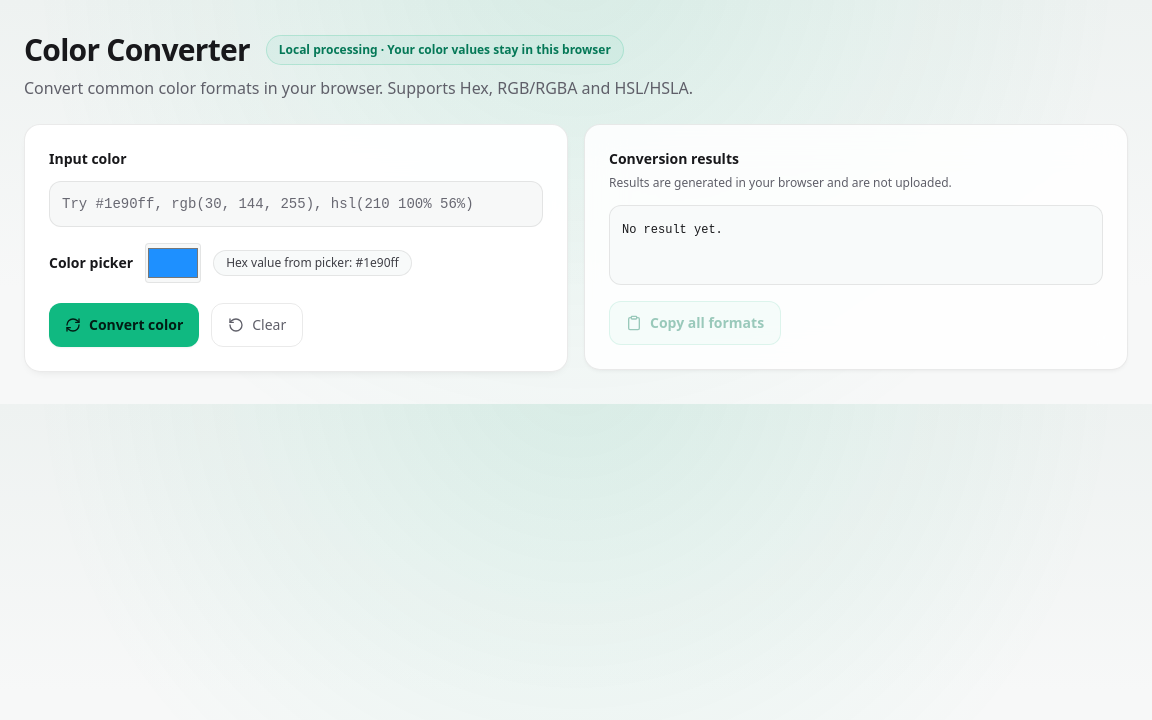
it: ColorConverterClient › shows error message for invalid input
This screenshot has width=1152, height=720.
Type "bad-color" into the field named "Input color" at (296, 204), box [49, 181, 543, 227]
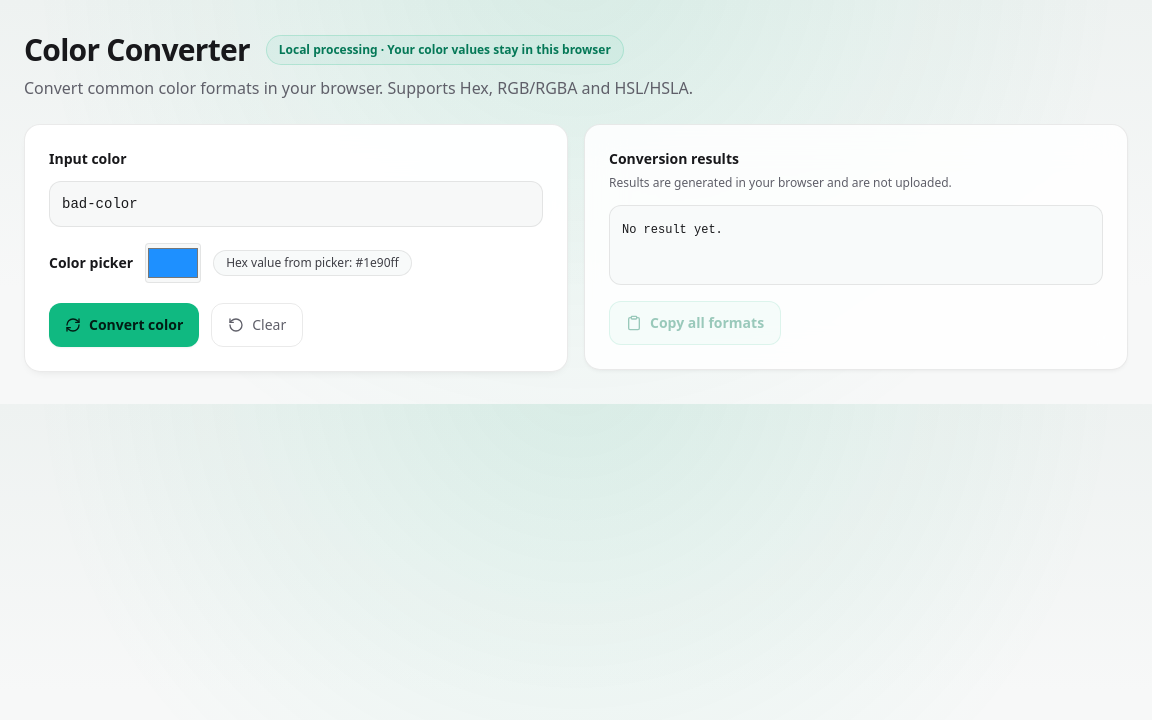
Click the button "Convert color" at (124, 325), box [49, 303, 199, 347]
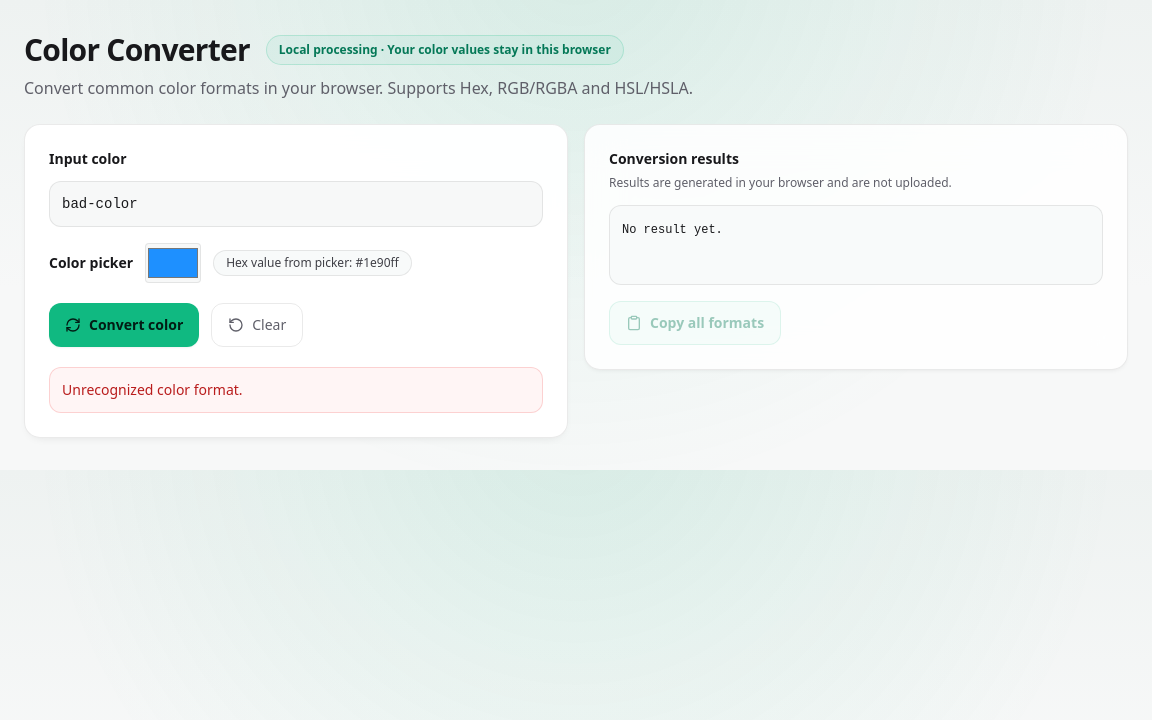
Result: the text "Unrecognized color format." is shown at [49, 367, 543, 413]
